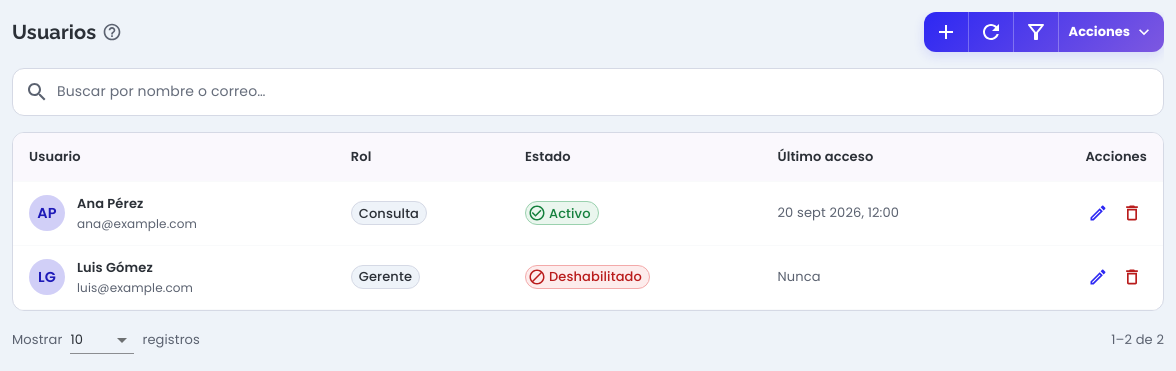
Test case: <UsersPage /> › rol y estado están ocultos hasta activar el filtro avanzado
This screenshot has width=1176, height=371.
Check: the row "Ana Pérez" is shown, box [13,182,1163,245]
Check: the form "Refina tu búsqueda" is not shown
Click the button named "Filtros avanzados" at (1035, 32), box [1012,12,1058,52]
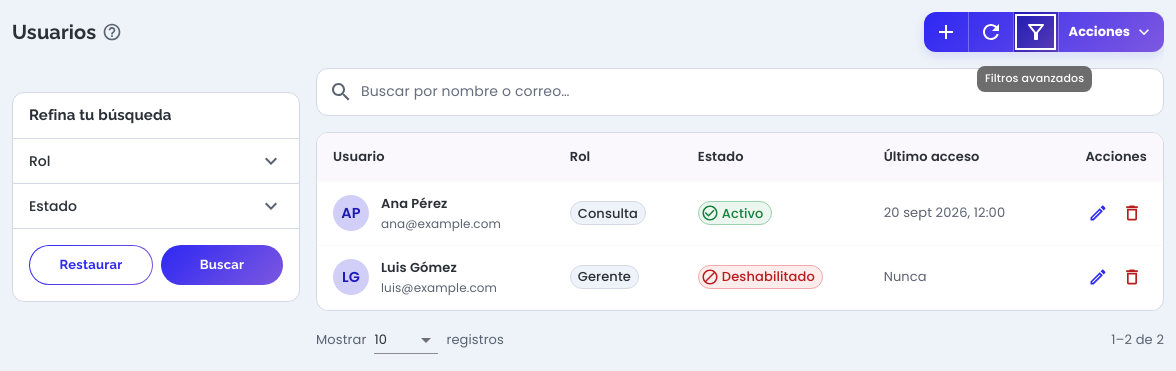
Check: the button "Rol" is shown, box [13,139,299,183]
Check: the button "Estado" is shown, box [13,184,299,228]
